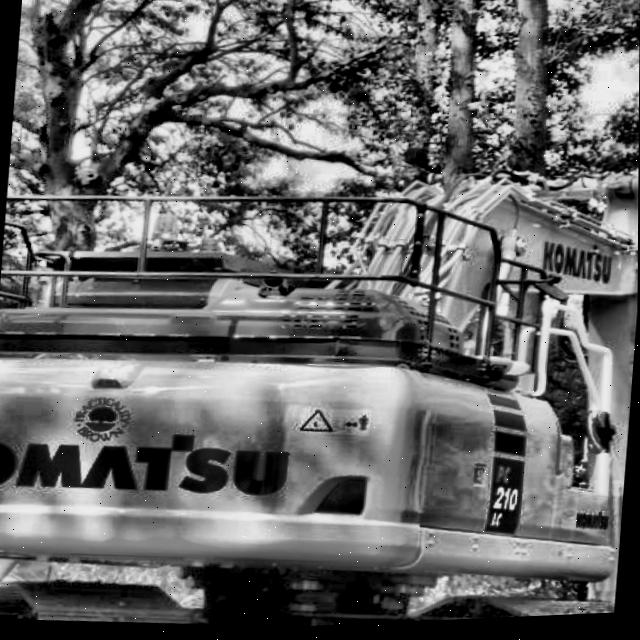excavator: (0, 90, 639, 640)
